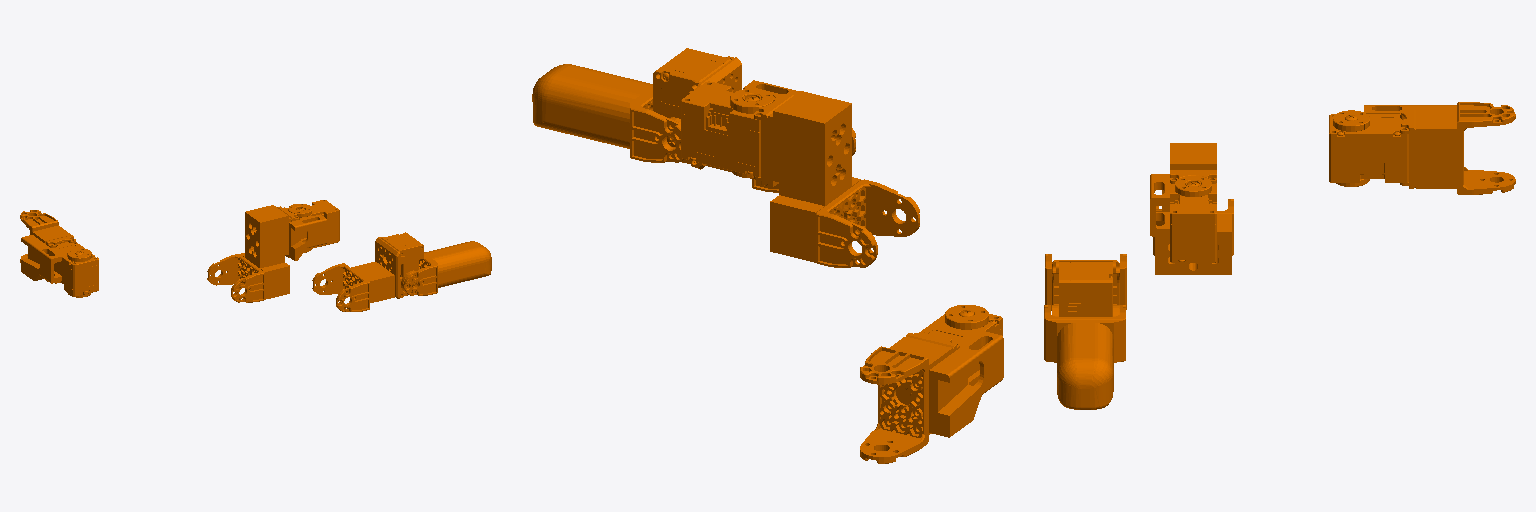
URDF robot description (onshape):
<robot name="onshape">
  <link name="palm_lower">
    <inertial>
      <origin xyz="0.0 0.0 0.0" rpy="0.0 -0.0 0.0"/>
      <mass value="0.237"/>
      <inertia ixx="0.000354094" ixy="-1.193e-06" ixz="-2.445e-06" iyy="0.000260915" iyz="-2.905e-06" izz="0.000529257"/>
    </inertial>
    <visual>
      <geometry>
        <mesh filename="../assets/leap/leap_hand/palm_lower.stl"/>
      </geometry>
      <origin xyz="-0.020095249652862544 0.025757756134899473 -0.034722403578460216" rpy="0.0 -0.0 0.0"/>
      <material name="palm_lower_material">
        <color rgba="0.6039215686274509 0.14901960784313725 0.14901960784313725 1.0"/>
      </material>
    </visual>
    <collision>
      <geometry>
        <mesh filename="../assets/leap/leap_hand/palm_lower.stl"/>
      </geometry>
      <origin xyz="-0.020095249652862544 0.025757756134899473 -0.034722403578460216" rpy="0.0 -0.0 0.0"/>
    </collision>
  </link>
  <link name="pip_4">
    <inertial>
      <origin xyz="0.0 0.0 0.0" rpy="0.0 -0.0 0.0"/>
      <mass value="0.032"/>
      <inertia ixx="4.798e-06" ixy="1.2e-08" ixz="4e-09" iyy="2.862e-06" iyz="1.1e-08" izz="4.234e-06"/>
    </inertial>
    <visual>
      <geometry>
        <mesh filename="../assets/leap/leap_hand/pip.stl"/>
      </geometry>
      <origin xyz="-0.005356636907728671 0.0002999999999999999 0.0007840340104173782" rpy="-1.5707963267948966 -1.5707963267948963 0.0"/>
      <material name="pip_material">
        <color rgba="0.7490196078431373 0.7490196078431373 0.7490196078431373 1.0"/>
      </material>
    </visual>
    <collision>
      <geometry>
        <mesh filename="../assets/leap/leap_hand/pip.stl"/>
      </geometry>
      <origin xyz="-0.005356636907728671 0.0002999999999999999 0.0007840340104173782" rpy="-1.5707963267948966 -1.5707963267948963 0.0"/>
    </collision>
  </link>
  <link name="thumb_pip">
    <inertial>
      <origin xyz="0.0 0.0 0.0" rpy="0.0 -0.0 0.0"/>
      <mass value="0.003"/>
      <inertia ixx="5.93e-07" ixy="0.0" ixz="0.0" iyy="5.49e-07" iyz="0.0" izz="2.24e-07"/>
    </inertial>
    <visual>
      <geometry>
        <mesh filename="../assets/leap/leap_hand/thumb_pip.stl"/>
      </geometry>
      <origin xyz="0.011961920770611187 -5.30825383648903e-16 -0.0158526489566642" rpy="1.5707963267948966 1.6050198443300153e-46 -3.9204996250525193e-59"/>
      <material name="thumb_pip_material">
        <color rgba="0.8666666666666667 0.8666666666666667 0.050980392156862744 1.0"/>
      </material>
    </visual>
    <collision>
      <geometry>
        <mesh filename="../assets/leap/leap_hand/thumb_pip.stl"/>
      </geometry>
      <origin xyz="0.011961920770611187 -5.30825383648903e-16 -0.0158526489566642" rpy="1.5707963267948966 1.6050198443300153e-46 -3.9204996250525193e-59"/>
    </collision>
  </link>
  <link name="thumb_dip_long">
    <inertial>
      <origin xyz="0.0 0.0 0.0" rpy="0.0 -0.0 0.0"/>
      <mass value="0.038"/>
      <inertia ixx="8.474e-06" ixy="2.41e-07" ixz="2.6e-08" iyy="3.841e-06" iyz="2.5e-08" izz="7.679e-06"/>
    </inertial>
    <visual>
      <geometry>
        <mesh filename="custom_models/thumb_dip_long.stl"/>
      </geometry>
      <origin xyz="0.043968715707239175439 0.072952952973709198625 -0.0086286764493694757122" rpy="1.94289029309401e-16 3.27515792264422e-15 1.112375852965736e-46"/>
      <material name="thumb_dip_material">
        <color rgba="0.878 0.467 0.0 1.0"/>
      </material>
    </visual>
    <collision>
      <geometry>
        <mesh filename="custom_models/thumb_dip_long.stl"/>
      </geometry>
      <origin xyz="0.043968715707239175439 0.072952952973709198625 -0.0086286764493694757122" rpy="1.94289029309401e-16 3.27515792264422e-15 1.112375852965736e-46"/>
    </collision>
  </link>
  <link name="thumb_fingertip">
    <inertial>
      <origin xyz="0.0 0.0 0.0" rpy="0.0 -0.0 0.0"/>
      <mass value="0.049"/>
      <inertia ixx="2.0372e-05" ixy="-4.89e-07" ixz="-3e-08" iyy="4.336e-06" iyz="-9.7e-08" izz="1.9845e-05"/>
    </inertial>
    <visual>
      <geometry>
        <mesh filename="../assets/leap/leap_hand/thumb_fingertip.stl"/>
      </geometry>
      <origin xyz="0.06255953846266739 0.07845968291139699 0.048992911807332215" rpy="4.379057701015637e-47 -3.33066907387547e-16 1.2042408677791935e-46"/>
      <material name="thumb_fingertip_material">
        <color rgba="0.6039215686274509 0.14901960784313725 0.14901960784313725 1.0"/>
      </material>
    </visual>
    <collision>
      <geometry>
        <mesh filename="../assets/leap/leap_hand/thumb_fingertip.stl"/>
      </geometry>
      <origin xyz="0.06255953846266739 0.07845968291139699 0.048992911807332215" rpy="4.379057701015637e-47 -3.33066907387547e-16 1.2042408677791935e-46"/>
    </collision>
  </link>
  <link name="mcp_joint_2_long">
    <inertial>
      <origin xyz="0.0 0.0 0.0" rpy="0.0 -0.0 0.0"/>
      <mass value="0.044"/>
      <inertia ixx="1.1499e-05" ixy="3.049e-06" ixz="1.21e-07" iyy="7.796e-06" iyz="1.12e-07" izz="1.4759e-05"/>
    </inertial>
    <visual>
      <geometry>
        <mesh filename="custom_models/mcp_joint_long.stl"/>
      </geometry>
      <origin xyz="0.008406902261174496 0.0077662438597169954 0.014657354985032914" rpy="1.6375789613221e-15 -1.0076465469034e-30 2.1209300131419907e-61"/>
      <material name="mcp_joint_material">
        <color rgba="0.878 0.467 0.0 1.0"/>
      </material>
    </visual>
    <collision>
      <geometry>
        <mesh filename="custom_models/mcp_joint_long.stl"/>
      </geometry>
      <origin xyz="0.008406902261174496 0.0077662438597169954 0.014657354985032914" rpy="1.6375789613221e-15 -1.0076465469034e-30 2.1209300131419907e-61"/>
    </collision>
  </link>
  <link name="pip_2">
    <inertial>
      <origin xyz="0.0 0.0 0.0" rpy="0.0 -0.0 0.0"/>
      <mass value="0.032"/>
      <inertia ixx="4.798e-06" ixy="1.2e-08" ixz="4e-09" iyy="2.862e-06" iyz="1.1e-08" izz="4.234e-06"/>
    </inertial>
    <visual>
      <geometry>
        <mesh filename="../assets/leap/leap_hand/pip.stl"/>
      </geometry>
      <origin xyz="0.009643363092271328 0.0002999999999999947 0.0007840340104173765" rpy="-1.5707963267948966 -1.5707963267948963 0.0"/>
      <material name="pip_material">
        <color rgba="0.7490196078431373 0.7490196078431373 0.7490196078431373 1.0"/>
      </material>
    </visual>
    <collision>
      <geometry>
        <mesh filename="../assets/leap/leap_hand/pip.stl"/>
      </geometry>
      <origin xyz="0.009643363092271328 0.0002999999999999947 0.0007840340104173765" rpy="-1.5707963267948966 -1.5707963267948963 0.0"/>
    </collision>
  </link>
  <link name="fingertip_2">
    <inertial>
      <origin xyz="0.0 0.0 0.0" rpy="0.0 -0.0 0.0"/>
      <mass value="0.016"/>
      <inertia ixx="3.368e-06" ixy="1.15e-07" ixz="0.0" iyy="1.556e-06" iyz="0.0" izz="2.863e-06"/>
    </inertial>
    <visual>
      <geometry>
        <mesh filename="../assets/leap/leap_hand/fingertip.stl"/>
      </geometry>
      <origin xyz="0.013286424108533496 -0.006114238386542001 0.014499999999999496" rpy="3.141592653589793 -4.317959788283594e-33 1.4408183216511869e-31"/>
      <material name="fingertip_material">
        <color rgba="0.8666666666666667 0.8666666666666667 0.050980392156862744 1.0"/>
      </material>
    </visual>
    <collision>
      <geometry>
        <mesh filename="../assets/leap/leap_hand/fingertip.stl"/>
      </geometry>
      <origin xyz="0.013286424108533496 -0.006114238386542001 0.014499999999999496" rpy="3.141592653589793 -4.317959788283594e-33 1.4408183216511869e-31"/>
    </collision>
  </link>
  <link name="mcp_joint_3">
    <inertial>
      <origin xyz="0.0 0.0 0.0" rpy="0.0 -0.0 0.0"/>
      <mass value="0.044"/>
      <inertia ixx="1.1499e-05" ixy="3.049e-06" ixz="1.21e-07" iyy="7.796e-06" iyz="1.12e-07" izz="1.4759e-05"/>
    </inertial>
    <visual>
      <geometry>
        <mesh filename="../assets/leap/leap_hand/mcp_joint.stl"/>
      </geometry>
      <origin xyz="0.0084069022611745 0.007766243859716996 0.014657354985032914" rpy="1.6375789613221e-15 -1.0059504988632627e-30 5.729641584552035e-32"/>
      <material name="mcp_joint_material">
        <color rgba="0.8666666666666667 0.8666666666666667 0.050980392156862744 1.0"/>
      </material>
    </visual>
    <collision>
      <geometry>
        <mesh filename="../assets/leap/leap_hand/mcp_joint.stl"/>
      </geometry>
      <origin xyz="0.0084069022611745 0.007766243859716996 0.014657354985032914" rpy="1.6375789613221e-15 -1.0059504988632627e-30 5.729641584552035e-32"/>
    </collision>
  </link>
  <link name="pip_3">
    <inertial>
      <origin xyz="0.0 0.0 0.0" rpy="0.0 -0.0 0.0"/>
      <mass value="0.032"/>
      <inertia ixx="4.798e-06" ixy="1.2e-08" ixz="4e-09" iyy="2.862e-06" iyz="1.1e-08" izz="4.234e-06"/>
    </inertial>
    <visual>
      <geometry>
        <mesh filename="../assets/leap/leap_hand/pip.stl"/>
      </geometry>
      <origin xyz="0.009643363092271331 0.00029999999999998084 0.0007840340104173765" rpy="-1.5707963267948966 -1.5707963267948963 0.0"/>
      <material name="pip_material">
        <color rgba="0.7490196078431373 0.7490196078431373 0.7490196078431373 1.0"/>
      </material>
    </visual>
    <collision>
      <geometry>
        <mesh filename="../assets/leap/leap_hand/pip.stl"/>
      </geometry>
      <origin xyz="0.009643363092271331 0.00029999999999998084 0.0007840340104173765" rpy="-1.5707963267948966 -1.5707963267948963 0.0"/>
    </collision>
  </link>
  <link name="dip_3_long">
    <inertial>
      <origin xyz="0.0 0.0 0.0" rpy="0.0 -0.0 0.0"/>
      <mass value="0.037"/>
      <inertia ixx="5.542e-06" ixy="-6.07e-07" ixz="-1.7e-08" iyy="5.727e-06" iyz="-2.3e-08" izz="6.682e-06"/>
    </inertial>
    <visual>
      <geometry>
        <mesh filename="custom_models/dip_long.stl"/>
      </geometry>
      <origin xyz="0.021133352895225006 -0.008432119146704865 0.009785088162095237" rpy="-3.141592653589793 -1.4095651113919093e-33 1.5565411607615035e-32"/>
      <material name="dip_material">
        <color rgba="0.878 0.467 0.0 1.0"/>
      </material>
    </visual>
    <collision>
      <geometry>
        <mesh filename="custom_models/dip_long.stl"/>
      </geometry>
      <origin xyz="0.021133352895225006 -0.008432119146704865 0.009785088162095237" rpy="-3.141592653589793 -1.4095651113919093e-33 1.5565411607615035e-32"/>
    </collision>
  </link>
  <link name="fingertip_3_long">
    <inertial>
      <origin xyz="0.0 0.0 0.0" rpy="0.0 -0.0 0.0"/>
      <mass value="0.016"/>
      <inertia ixx="3.368e-06" ixy="1.15e-07" ixz="0.0" iyy="1.556e-06" iyz="0.0" izz="2.863e-06"/>
    </inertial>
    <visual>
      <geometry>
        <mesh filename="custom_models/fingertip_long.stl"/>
      </geometry>
      <origin xyz="0.013286424108533501 -0.006114238386541987 0.0144999999999995" rpy="3.141592653589793 8.61707169505754e-33 1.5565411607615035e-32"/>
      <material name="fingertip_material">
        <color rgba="0.878 0.467 0.0 1.0"/>
      </material>
    </visual>
    <collision>
      <geometry>
        <mesh filename="custom_models/fingertip_long.stl"/>
      </geometry>
      <origin xyz="0.013286424108533501 -0.006114238386541987 0.0144999999999995" rpy="3.141592653589793 8.61707169505754e-33 1.5565411607615035e-32"/>
    </collision>
  </link>
  <joint name="12" type="revolute">
    <parent link="palm_lower"/>
    <child link="pip_4"/>
    <origin xyz="-0.06939524965286253 -0.0012422438651005258 -0.021622403578460216" rpy="-8.238176646493942e-17 1.5707963267948957 0.0"/>
    <axis xyz="0.0 0.0 -1.0"/>
    <limit effort="0.95" velocity="8.48" lower="-0.349" upper="2.094"/>
  </joint>
  <joint name="13" type="revolute">
    <parent link="pip_4"/>
    <child link="thumb_pip"/>
    <origin xyz="-2.7755575615628914e-17 0.014300000000000005 -0.013000000000000012" rpy="1.570796326794896 -1.5707963267948963 0.0"/>
    <axis xyz="0.0 0.0 -1.0"/>
    <limit effort="0.95" velocity="8.48" lower="-0.47" upper="2.443"/>
  </joint>
  <joint name="14" type="revolute">
    <parent link="thumb_pip"/>
    <child link="thumb_dip_long"/>
    <origin xyz="0.0 0.014499999999999966 -0.017000000000000053" rpy="-1.5707963267948966 1.6050198443300131e-46 -1.9721522630516625e-31"/>
    <axis xyz="0.0 0.0 -1.0"/>
    <limit effort="0.95" velocity="8.48" lower="-1.2" upper="1.9"/>
  </joint>
  <joint name="15" type="revolute">
    <parent link="thumb_dip_long"/>
    <child link="thumb_fingertip"/>
    <origin xyz="-1.249000902703301108e-16 0.061599999999999863753 0.00019999999999997710581" rpy="1.506395849149178e-44 5.423418723393526e-31 3.141592653589793"/>
    <axis xyz="0.0 0.0 -1.0"/>
    <limit effort="0.95" velocity="8.48" lower="-1.34" upper="1.88"/>
  </joint>
  <joint name="5" type="revolute">
    <parent link="palm_lower"/>
    <child link="mcp_joint_2_long"/>
    <origin xyz="-0.007095249652862546 -0.022392243865100525 -0.01872240357846022" rpy="1.570796326794895 1.5707963267948946 0.0"/>
    <axis xyz="0.0 0.0 -1.0"/>
    <limit effort="0.95" velocity="8.48" lower="-0.314" upper="2.23"/>
  </joint>
  <joint name="4" type="revolute">
    <parent link="mcp_joint_2_long"/>
    <child link="pip_2"/>
    <origin xyz="-0.012200000000000007713 0.053099999999999994982 0.014500000000000000736" rpy="-1.5707963267948966 -1.0065212660796337e-15 1.5707963267948943"/>
    <axis xyz="0.0 0.0 -1.0"/>
    <limit effort="0.95" velocity="8.48" lower="-1.047" upper="1.047"/>
  </joint>
  <joint name="6" type="revolute">
    <parent link="pip_2"/>
    <child link="fingertip_2"/>
    <origin xyz="0.014999999999999968 0.014299999999999905 -0.012999999999999824" rpy="1.570796326794896 -1.5707963267948963 0.0"/>
    <axis xyz="0.0 0.0 -1.0"/>
    <limit effort="0.95" velocity="8.48" lower="-0.506" upper="1.885"/>
  </joint>
  <joint name="9" type="revolute">
    <parent link="palm_lower"/>
    <child link="mcp_joint_3"/>
    <origin xyz="-0.007095249652862546 -0.06784224386510052 -0.01872240357846022" rpy="1.570796326794895 1.5707963267948946 0.0"/>
    <axis xyz="0.0 0.0 -1.0"/>
    <limit effort="0.95" velocity="8.48" lower="-0.314" upper="2.23"/>
  </joint>
  <joint name="8" type="revolute">
    <parent link="mcp_joint_3"/>
    <child link="pip_3"/>
    <origin xyz="-0.012200000000000008 0.038099999999999995 0.0145" rpy="-1.5707963267948966 -1.0065212660796337e-15 1.5707963267948943"/>
    <axis xyz="0.0 0.0 -1.0"/>
    <limit effort="0.95" velocity="8.48" lower="-1.047" upper="1.047"/>
  </joint>
  <joint name="10" type="revolute">
    <parent link="pip_3"/>
    <child link="dip_3_long"/>
    <origin xyz="0.014999999999999968 0.014299999999999905 -0.012999999999999824" rpy="1.570796326794896 -1.5707963267948963 0.0"/>
    <axis xyz="0.0 0.0 -1.0"/>
    <limit effort="0.95" velocity="8.48" lower="-0.506" upper="1.885"/>
  </joint>
  <joint name="11" type="revolute">
    <parent link="dip_3_long"/>
    <child link="fingertip_3_long"/>
    <origin xyz="-4.0880582495572692636e-09 -0.051100004210367367397 0.00020000000000007858714" rpy="4.5935029425113685e-17 -2.8730071914463795e-16 4.439548105392361e-32"/>
    <axis xyz="0.0 0.0 -1.0"/>
    <limit effort="0.95" velocity="8.48" lower="-0.366" upper="2.042"/>
  </joint>
</robot>

--- Render facts (derived) ---
The picture shows the robot from 3 angles, left to right: view 1: azimuth 30°, elevation 25°; view 2: azimuth 150°, elevation 25°; view 3: azimuth 270°, elevation 25°; orthographic projection.
Robot: onshape — 12 links, 11 joints (11 revolute); root link palm_lower; default pose: all joints at 0.
Links seen in each view (by area): view 1: mcp_joint_2_long, dip_3_long, thumb_dip_long, fingertip_3_long; view 2: mcp_joint_2_long, thumb_dip_long, fingertip_3_long, dip_3_long; view 3: thumb_dip_long, mcp_joint_2_long, fingertip_3_long, dip_3_long.
Link boxes in pixels (x1,y1,x2,y2): mcp_joint_2_long: [207, 200, 339, 302]; dip_3_long: [312, 232, 423, 311]; thumb_dip_long: [20, 210, 98, 297]; fingertip_3_long: [403, 241, 491, 295]; mcp_joint_2_long: [681, 80, 919, 267]; thumb_dip_long: [860, 305, 1003, 463]; fingertip_3_long: [532, 64, 684, 162]; dip_3_long: [653, 48, 855, 192]; thumb_dip_long: [1329, 102, 1515, 194]; mcp_joint_2_long: [1150, 143, 1233, 274]; fingertip_3_long: [1044, 305, 1125, 409]; dip_3_long: [1045, 254, 1126, 316].
Bounding box of the posed robot: 0.2625 × 0.1996 × 0.063 m (x, y, z).
4 mesh visuals loaded from 10 distinct referenced files (4 binary STL); not drawn: 8 (reference not matched to a file when rendering).